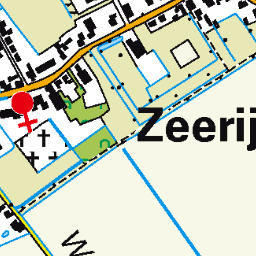church: (7, 88, 41, 135)
